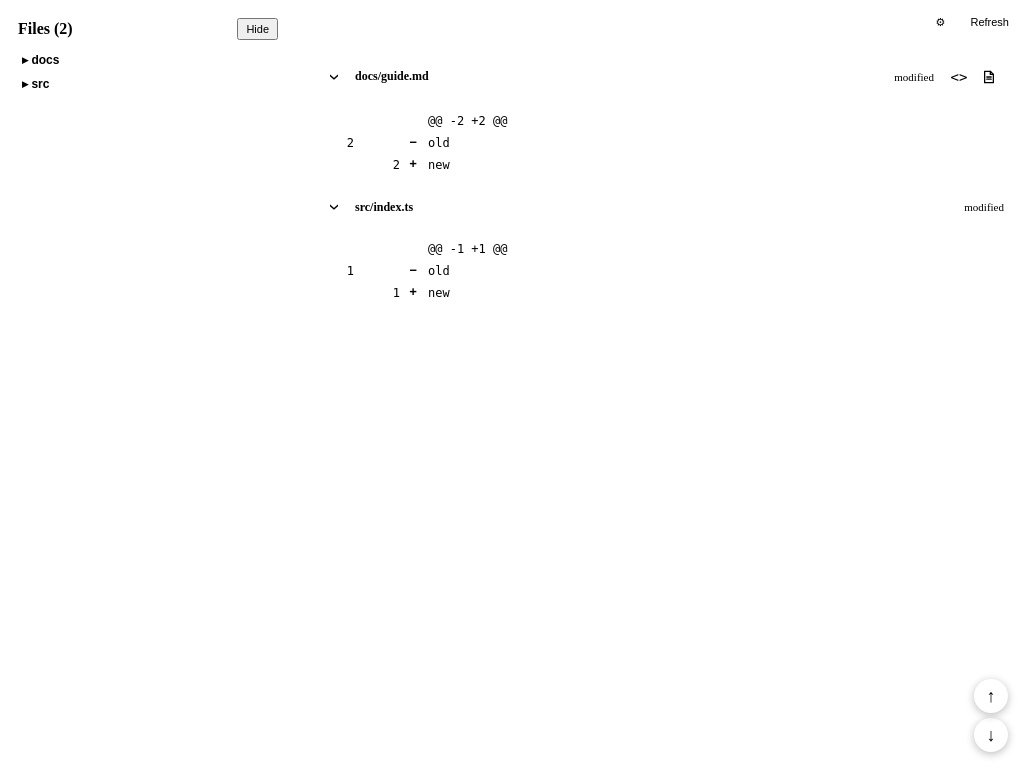
Test: ChangesPanel › opens the Layout menu, changes layout by keyboard, and restores focus on Escape
Later steps or results of the test are not shown.
Click the button named "Changes settings" at (940, 22), box [926, 8, 956, 36]
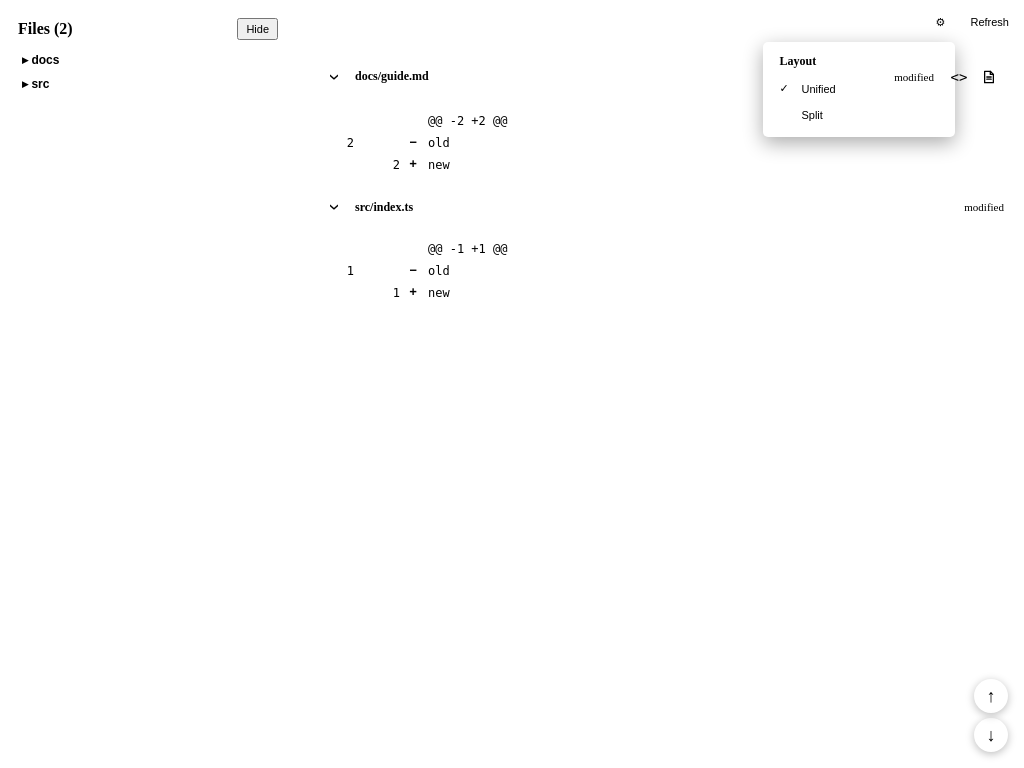
Press ArrowDown in the radio button labelled "✓ Unified", box [774, 76, 946, 101]
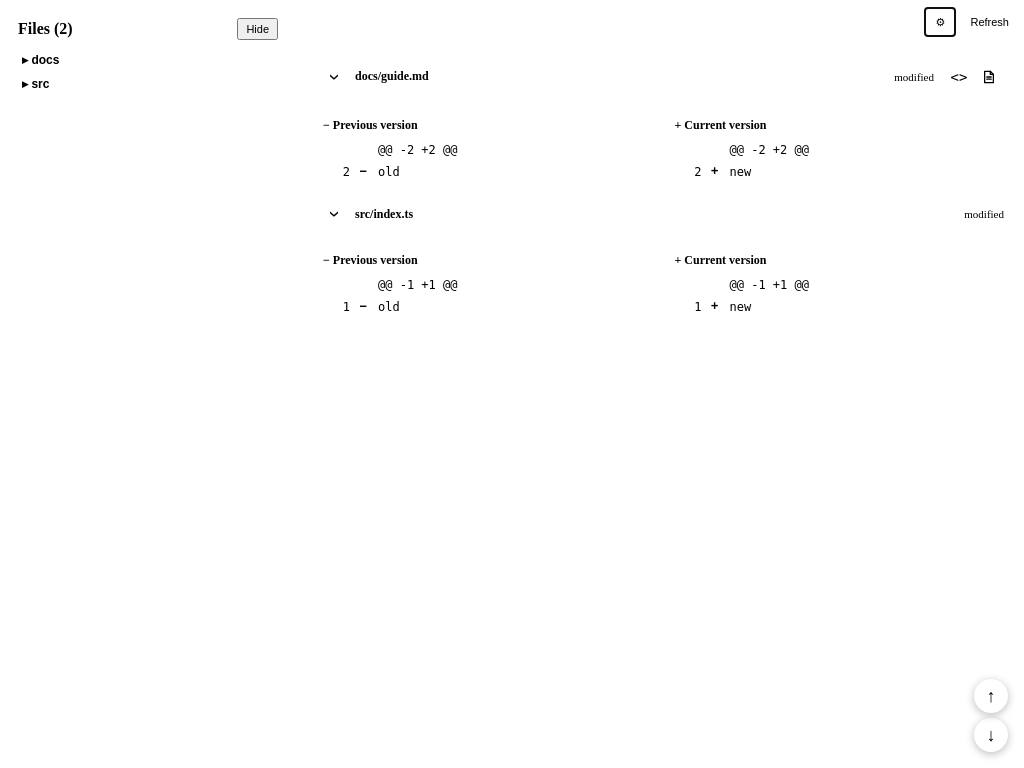
Expected: the element with class "split-diff" that starts with "− Previous version" is shown, [313, 111, 1016, 184]
